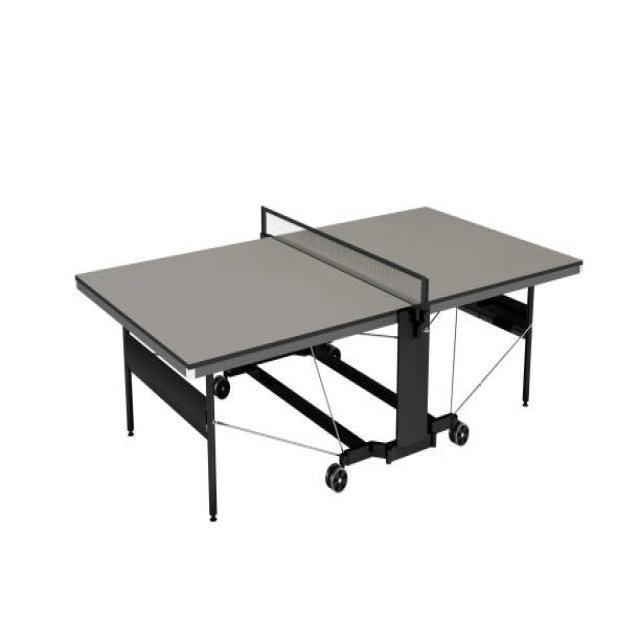table: (75, 202, 582, 520)
